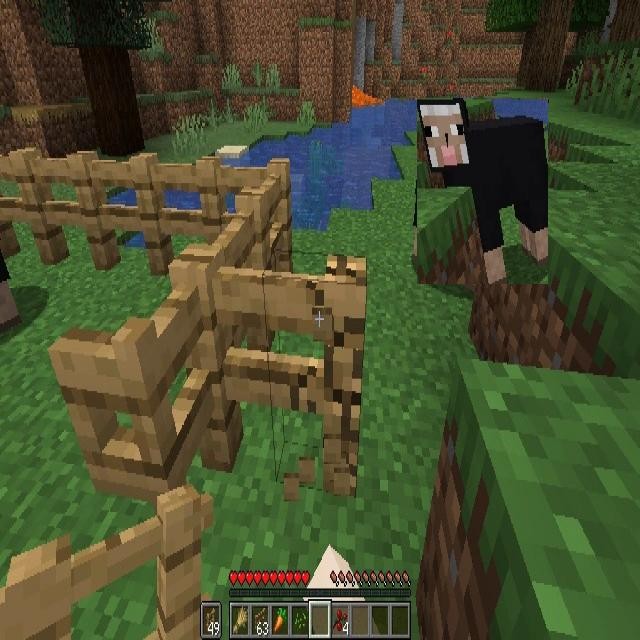sheep: (417, 98, 548, 284)
